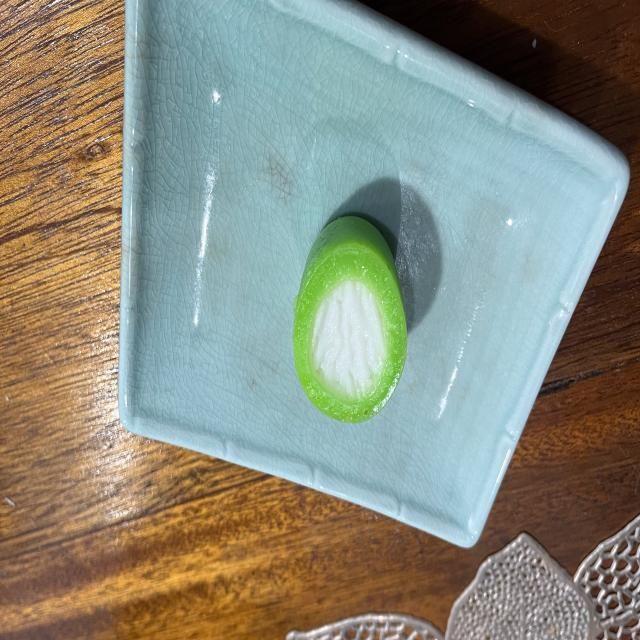nona-manis: (292, 216, 406, 422)
